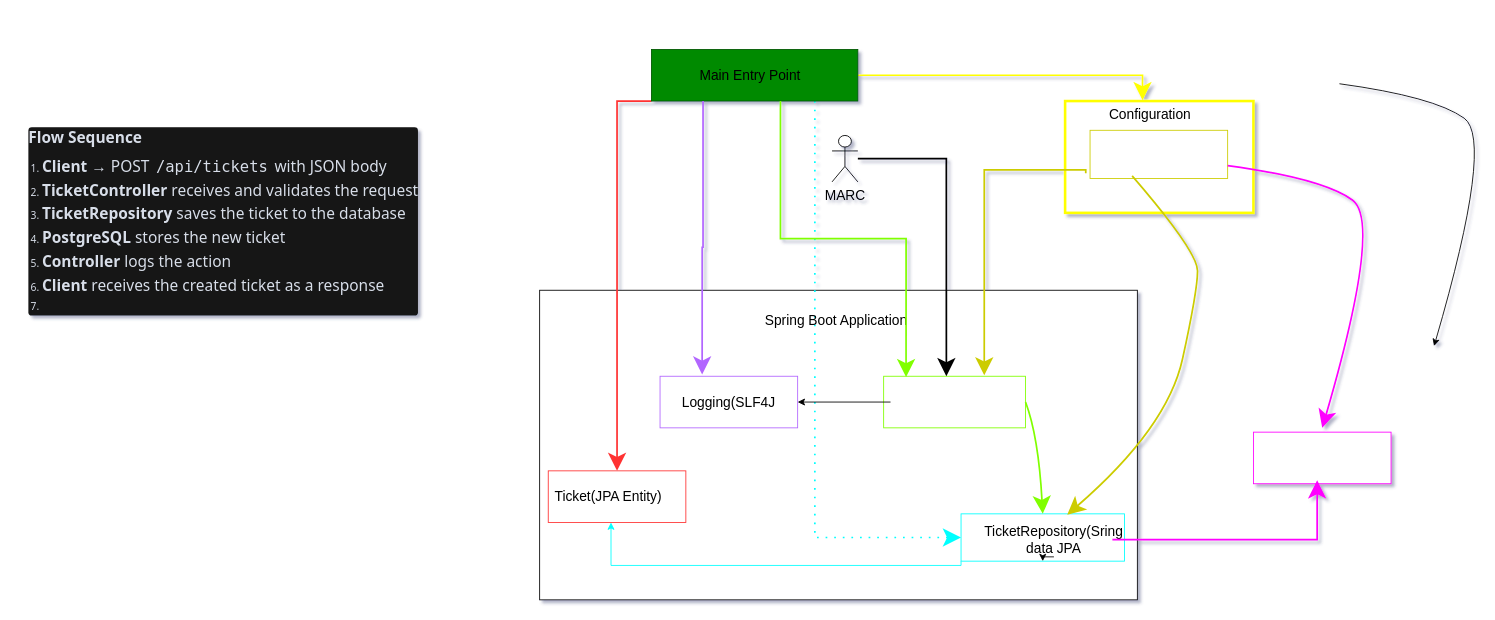
The diagram is 1495 pixels wide and 620 high, and some of its shapes have lost their labels. The shapes that lost their labels are listed below. From the top down, each one's box as (x1, y1, x2, y2) in pixels, then its label:
(1089, 129, 1228, 178): application.properties
(883, 375, 1026, 428): TicketController(REST API)
(1253, 431, 1391, 484): Postgres SQL Databae
